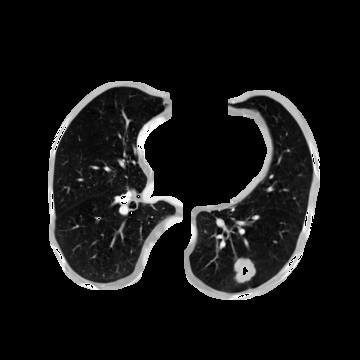PN: (231, 258, 255, 282)
